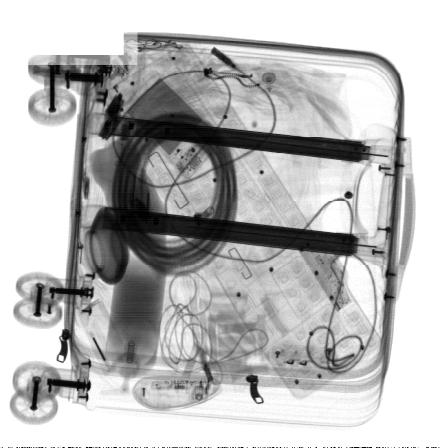Powerbank: (123, 73, 222, 181)
